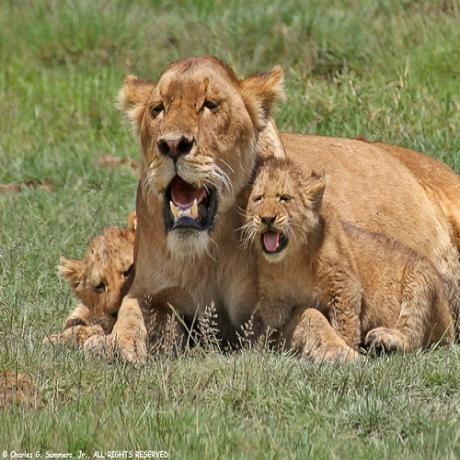Lion: (120, 57, 460, 362), (244, 156, 454, 358), (67, 211, 140, 347)
